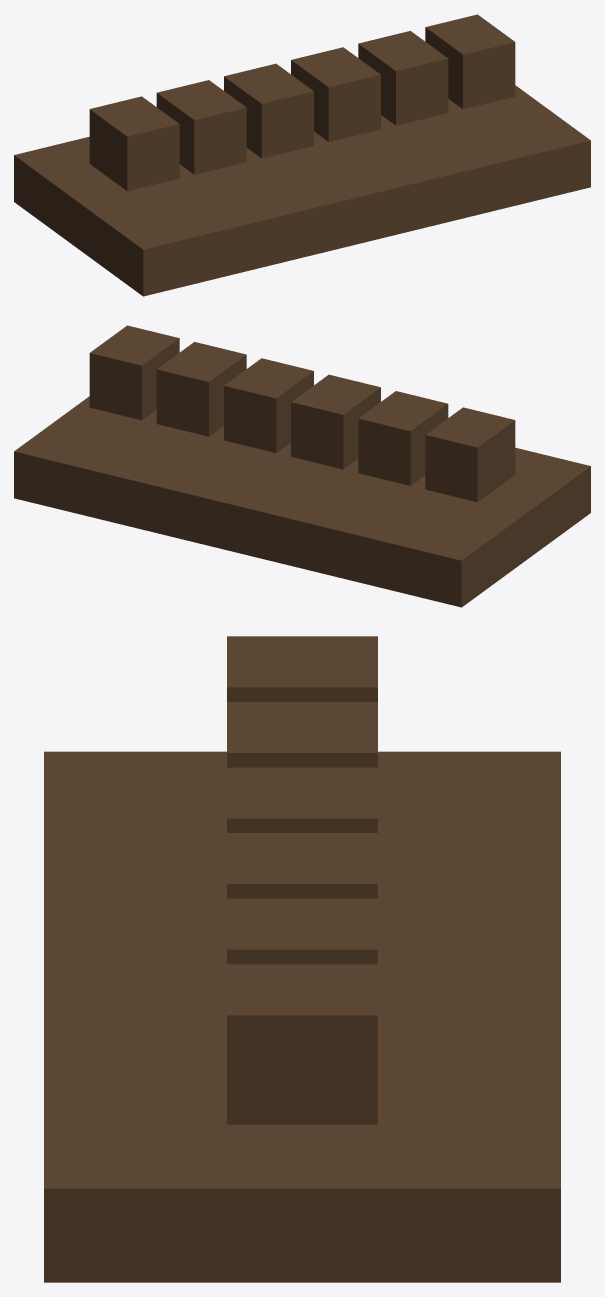
Rendered from GalakasMidCity_VENDOR_ProduceCrates_Cluster_01.obj.
3 views of the same model, one above another, from view 1: azimuth 30°, elevation 25°; view 2: azimuth 150°, elevation 25°; view 3: azimuth 270°, elevation 25° (orthographic). The views are drawn at different scales.
Visible parts, largest first — view 1: vendor_table, display_crate_0, display_crate_1, display_crate_4, display_crate_5, display_crate_2, display_crate_3; view 2: vendor_table, display_crate_0, display_crate_1, display_crate_4, display_crate_5, display_crate_2, display_crate_3; view 3: vendor_table, display_crate_5, display_crate_4, display_crate_0, display_crate_1, display_crate_2, display_crate_3.
Boxes of the visible parts, x1,y1,x2,y2 form: vendor_table: (14,85,590,296); display_crate_0: (89,96,179,191); display_crate_1: (156,80,246,174); display_crate_4: (358,31,448,125); display_crate_5: (425,14,515,109); display_crate_2: (224,63,313,158); display_crate_3: (291,47,380,141); vendor_table: (14,396,590,607); display_crate_0: (425,407,515,502); display_crate_1: (358,391,448,485); display_crate_4: (156,342,246,436); display_crate_5: (89,325,179,420); display_crate_2: (291,374,380,469); display_crate_3: (224,358,313,452); vendor_table: (44,751,560,1282); display_crate_5: (227,964,377,1124); display_crate_4: (227,898,377,964); display_crate_0: (227,636,377,701); display_crate_1: (227,702,377,767); display_crate_2: (227,767,377,832); display_crate_3: (227,833,377,898).
Size of the model in its own units: 2.4 by 0.61 by 1.2.
